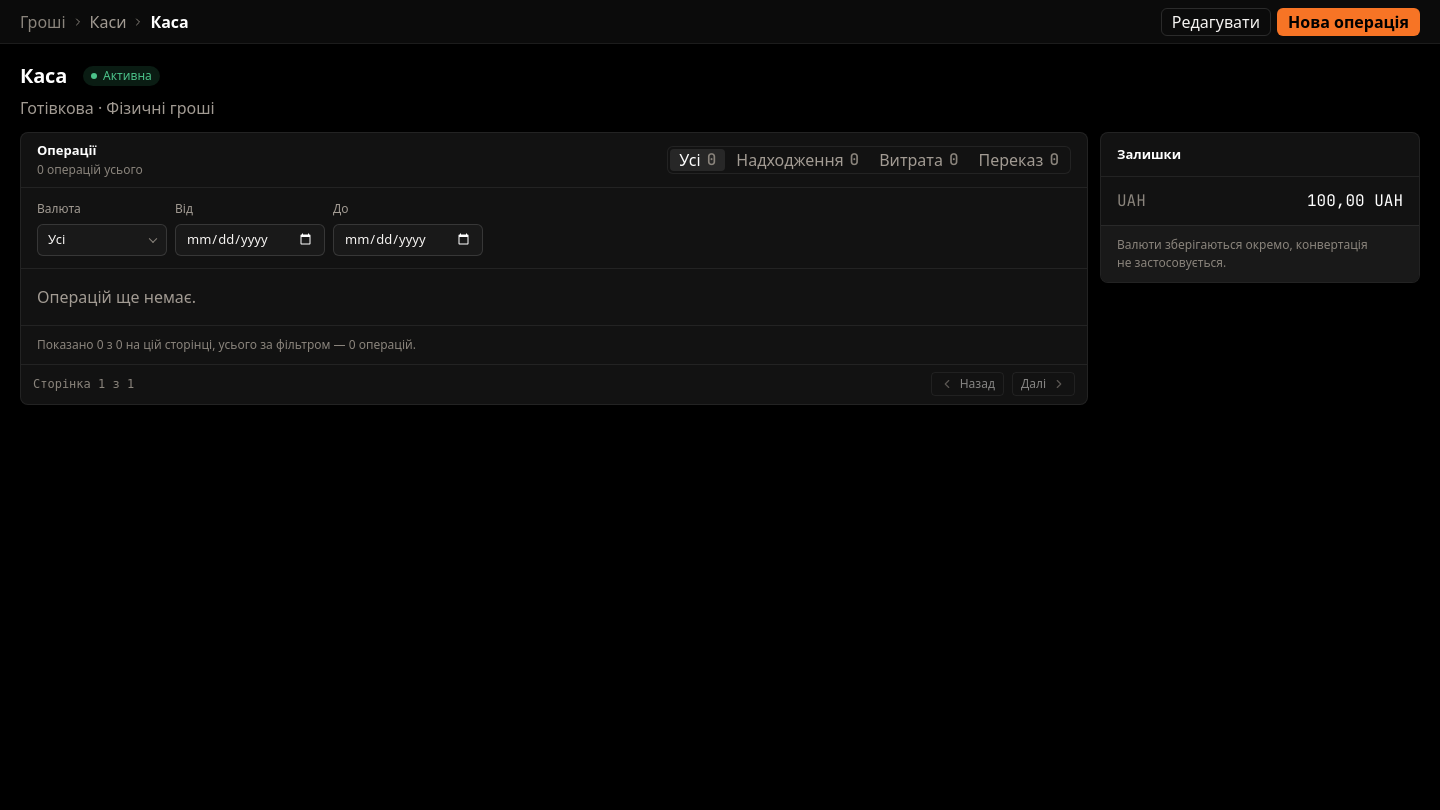
Test case: uses the Core manual movement enum values instead of generic income and expense
Click the button "Нова операція" at [1348, 22], box [1277, 8, 1420, 36]
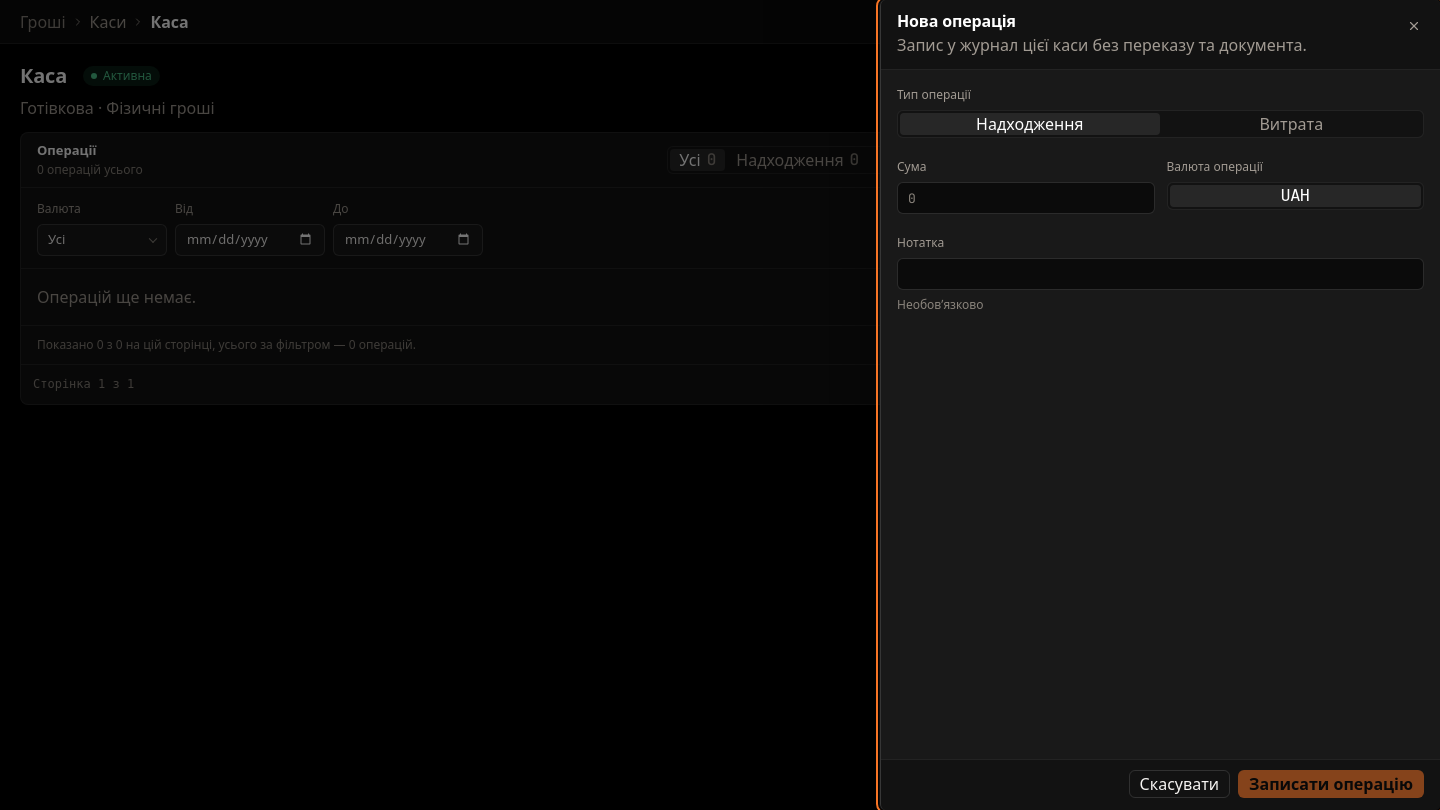
Click the radio button labelled "Витрата" at [1291, 124], box [1259, 113, 1323, 135]
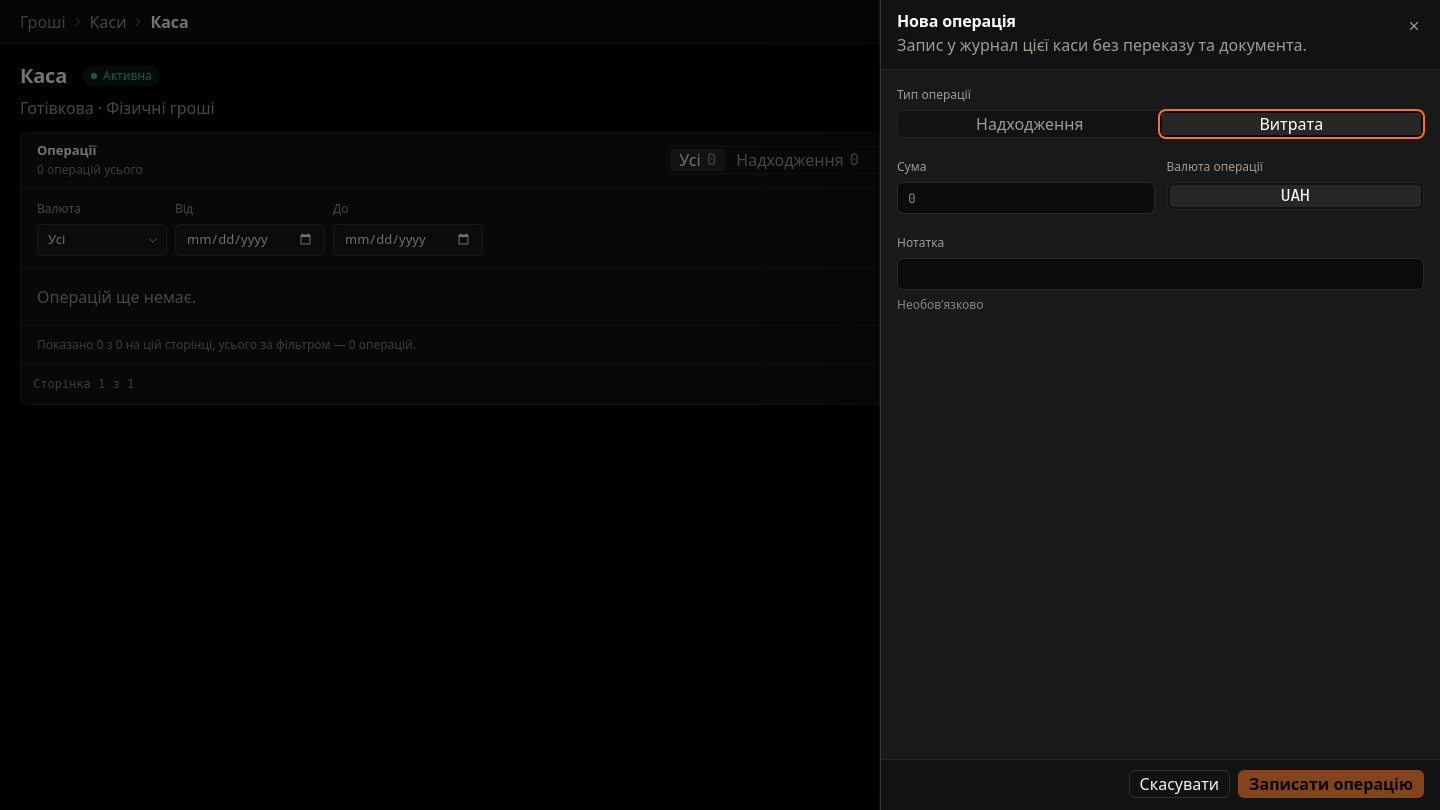
Type "25" into the number field labelled "Сума" at [1026, 198], box [897, 182, 1154, 214]
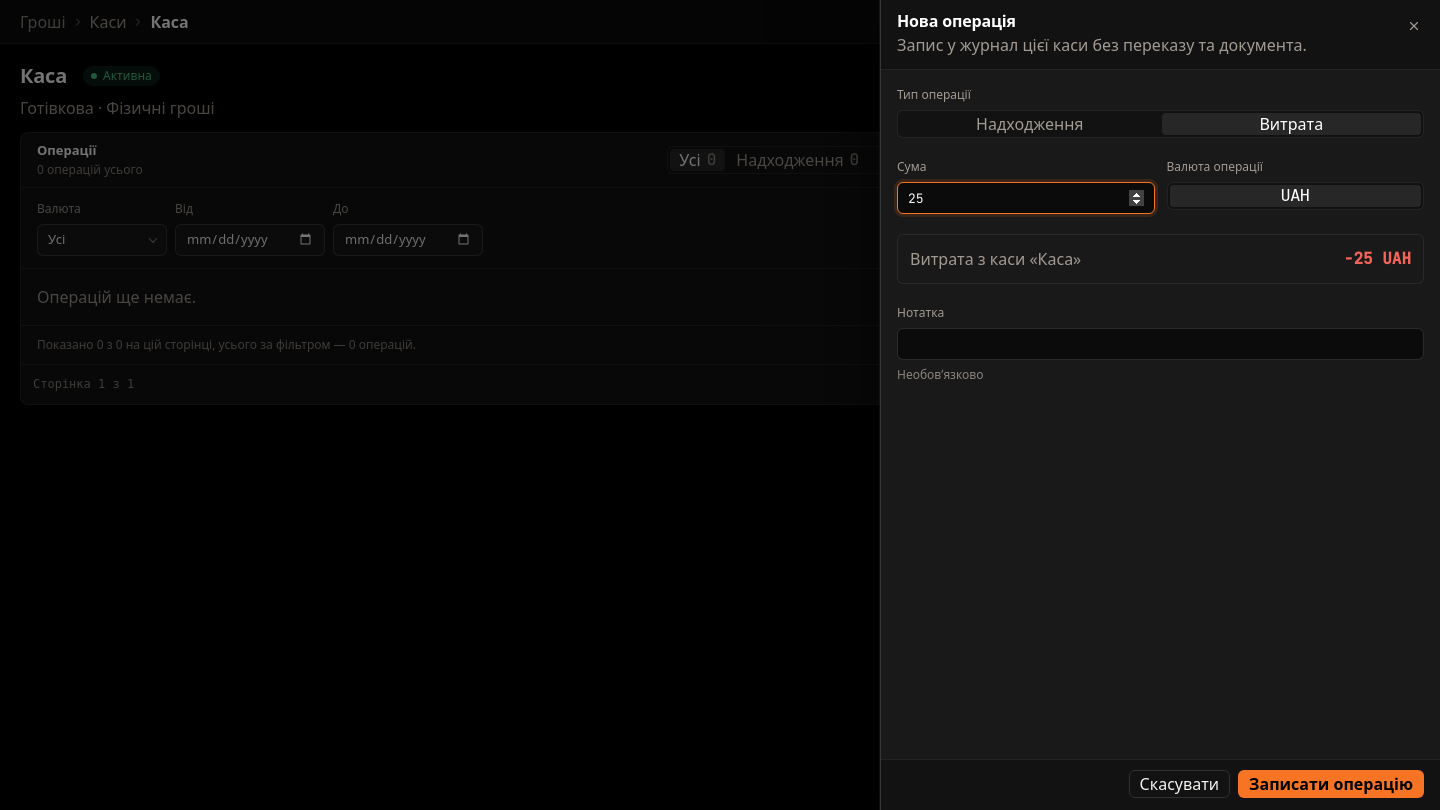
Click the button "Записати операцію" at [1331, 784], box [1238, 770, 1424, 798]
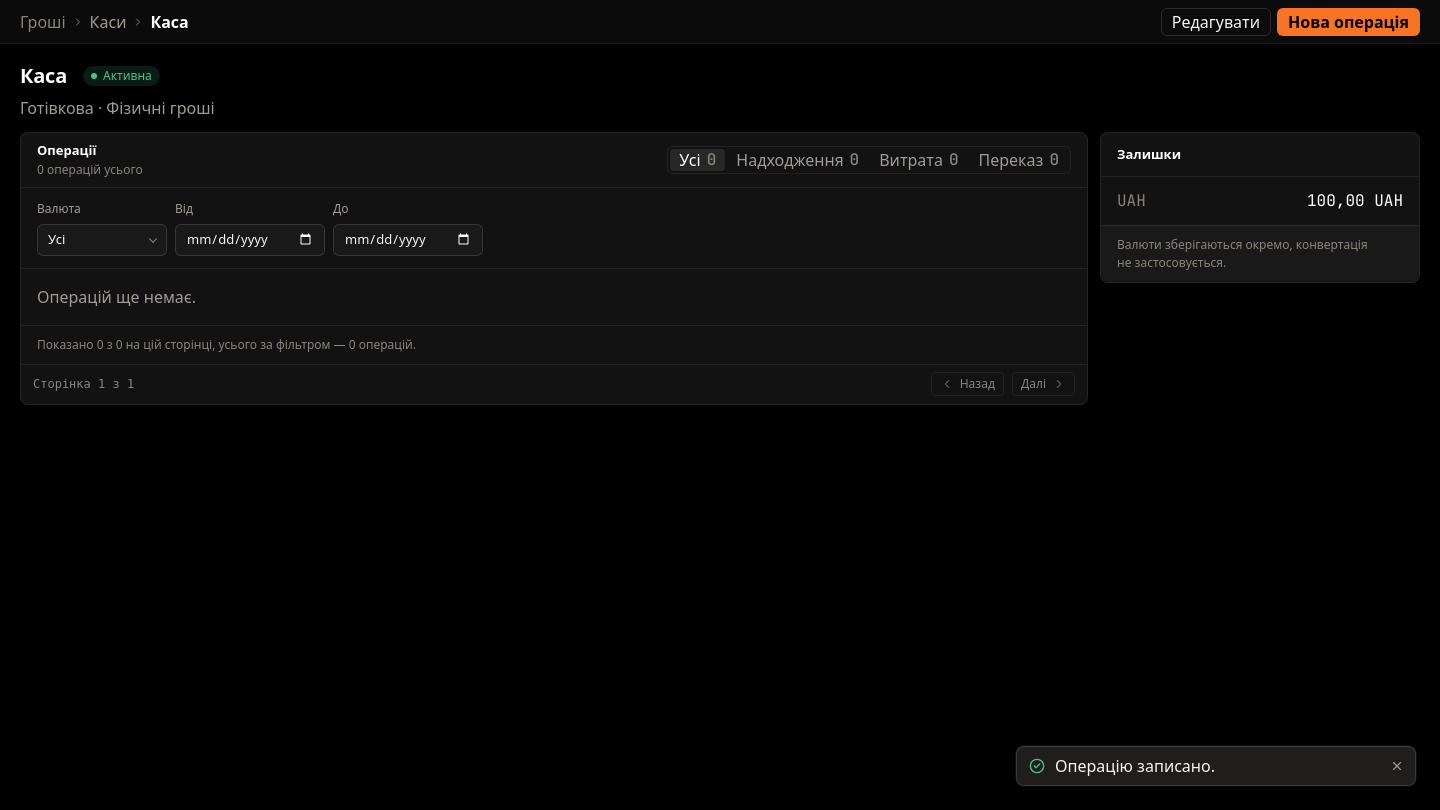
Expected: the message reads "Операцію записано.", [1055, 755, 1215, 777]
